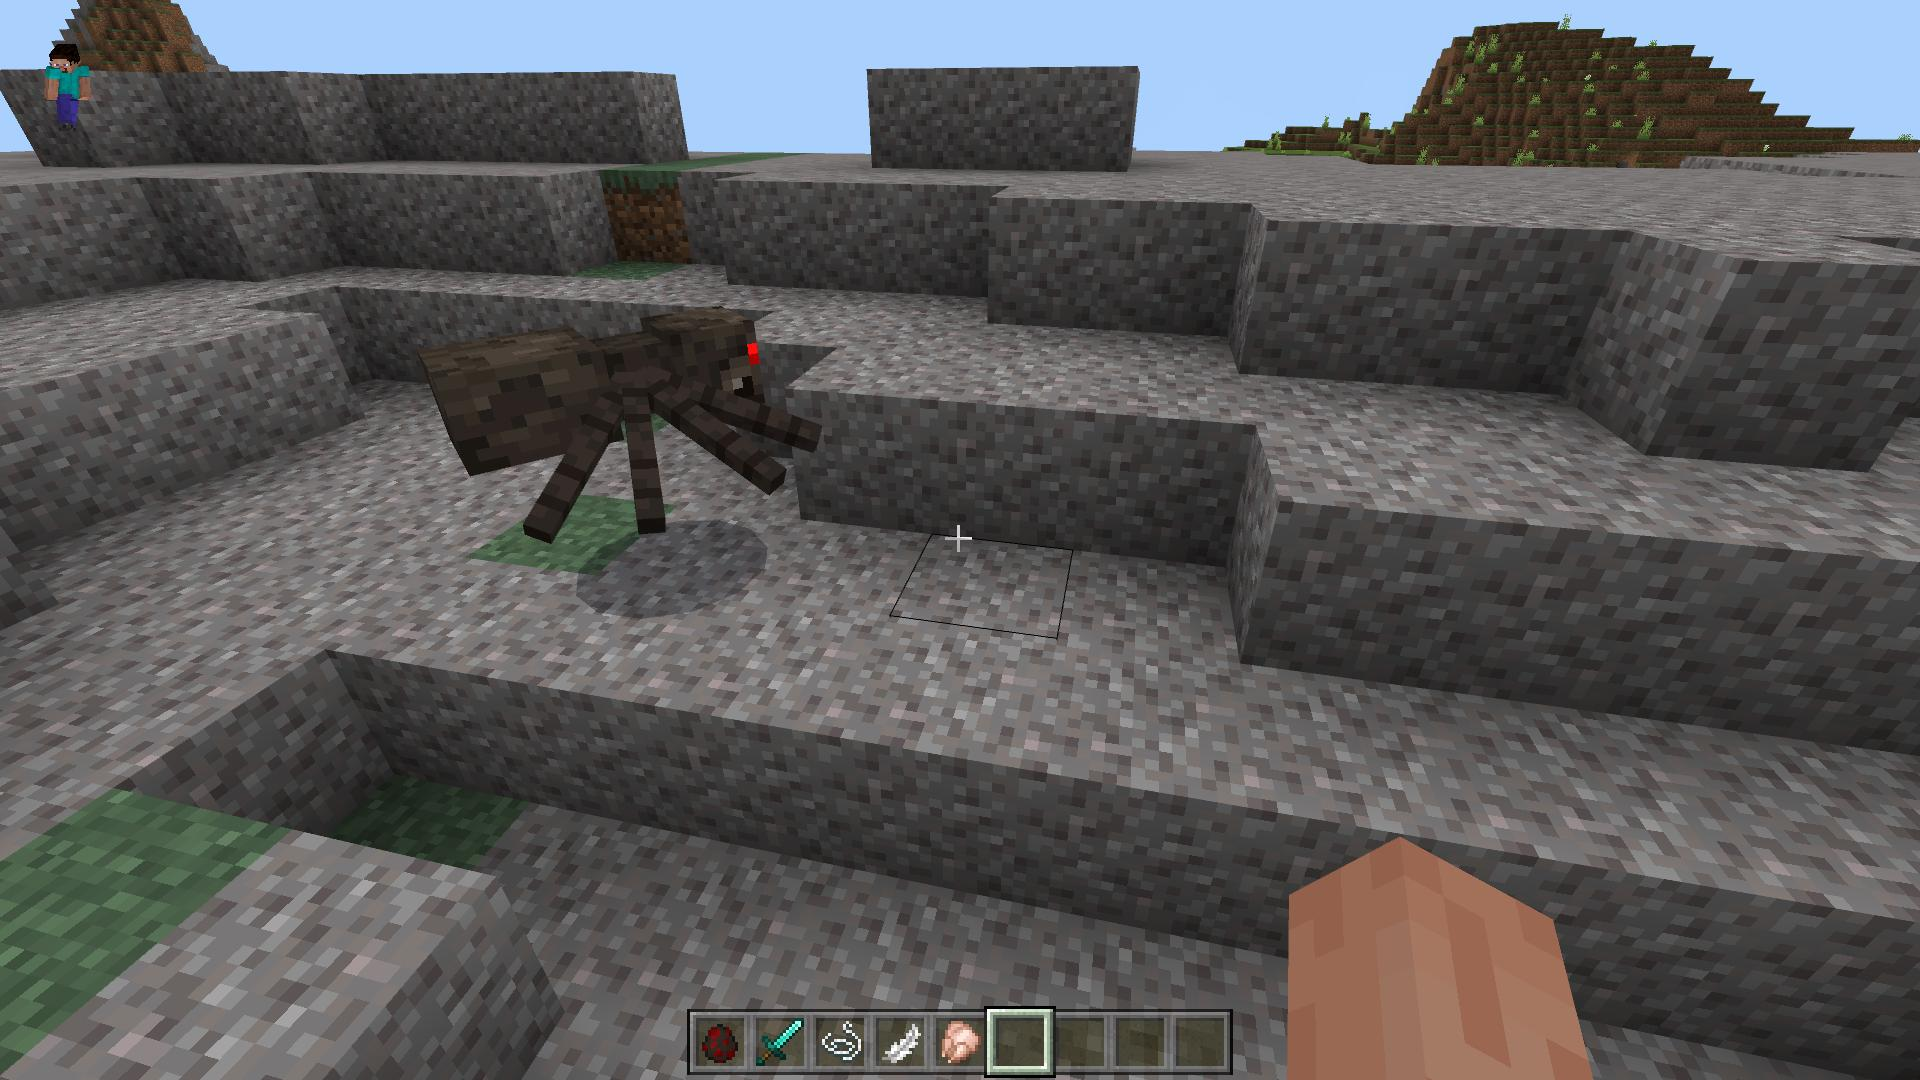spider: (418, 303, 822, 543)
